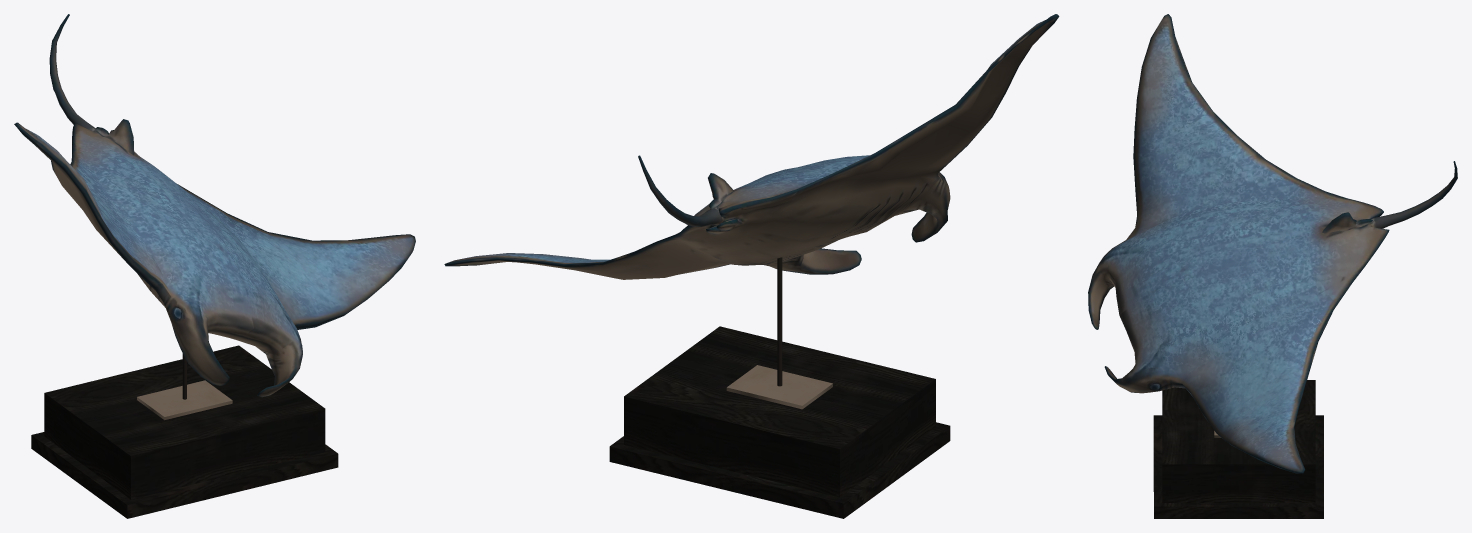
Rendered from bronze_ray_statue.glb.
3 views of the same model, side by side, from view 1: azimuth 30°, elevation 25°; view 2: azimuth 150°, elevation 25°; view 3: azimuth 270°, elevation 25° (orthographic). The views are drawn at different scales.
Visible parts, largest first — view 1: bronze_ray_statue; view 2: bronze_ray_statue; view 3: bronze_ray_statue.
Part boxes in pixels (x1,y1,x2,y2): bronze_ray_statue: (14, 14, 415, 518); bronze_ray_statue: (444, 14, 1059, 518); bronze_ray_statue: (1088, 14, 1457, 518).
Size of the model in its own units: 0.7075 by 0.5896 by 0.5355.
Materials: 1 (1 with a texture image).
